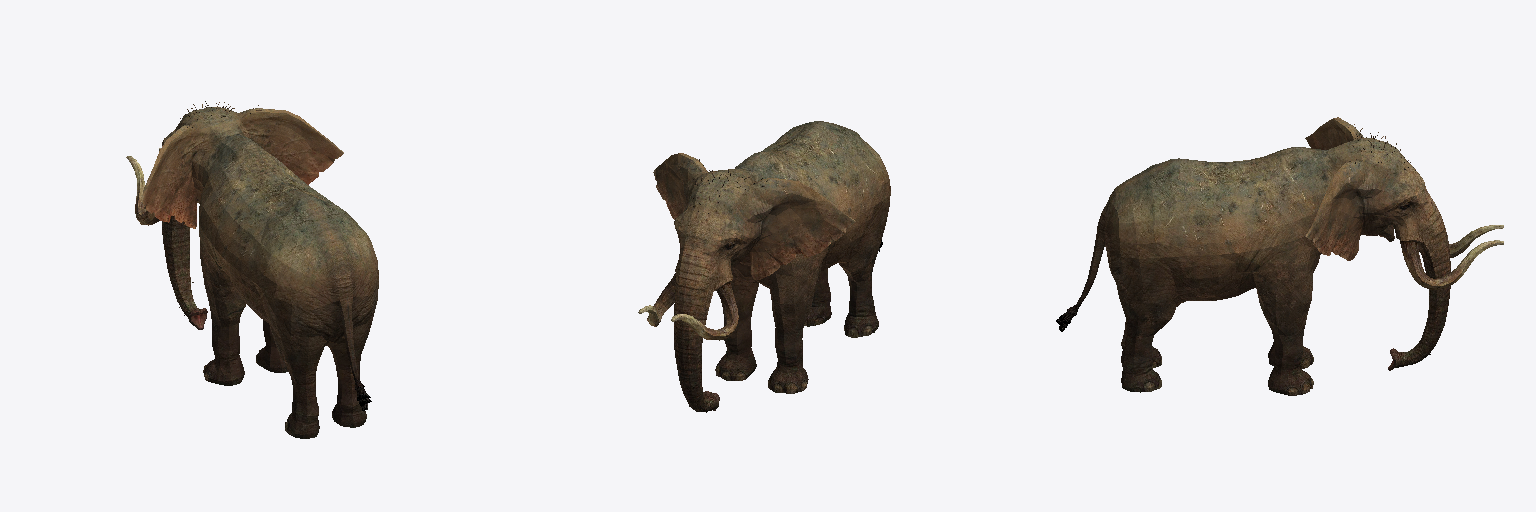
3 views of the same model, side by side, from view 1: azimuth 30°, elevation 25°; view 2: azimuth 150°, elevation 25°; view 3: azimuth 270°, elevation 25° (orthographic).
Parts seen in each view (by area): view 1: Elephant1; view 2: Elephant1; view 3: Elephant1.
Part boxes in pixels (left/top/right/bottom): Elephant1: left=126, top=101, right=378, bottom=438; Elephant1: left=638, top=121, right=890, bottom=412; Elephant1: left=1056, top=117, right=1503, bottom=395.
Bounding box in the file's own units: 12.19 × 13.67 × 23.35.
Materials: 1 (1 with a texture image).